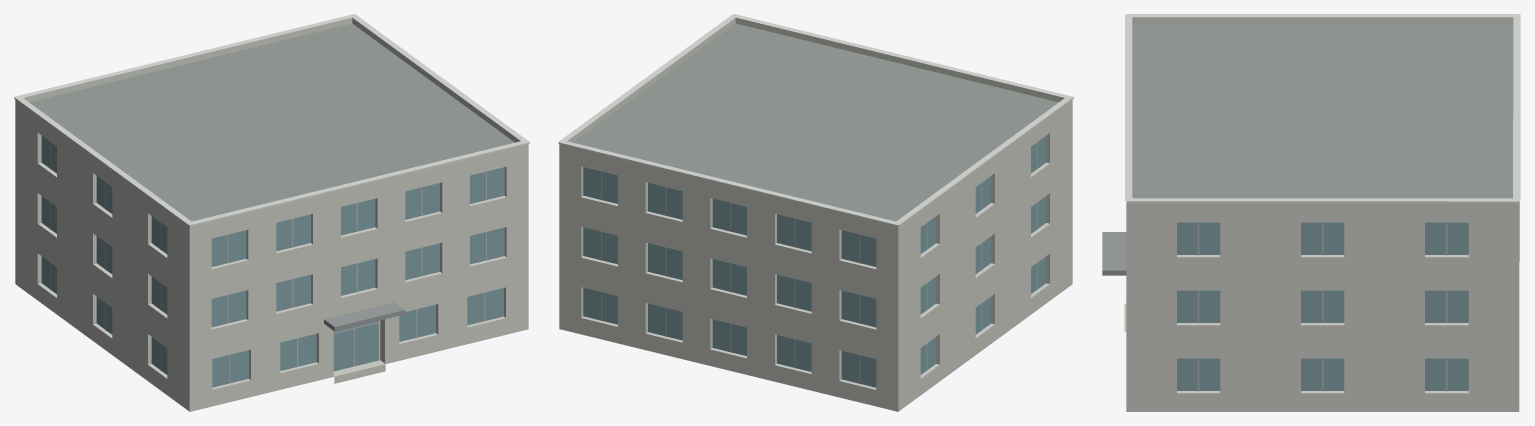
3 renders of one model, left to right at view 1: azimuth 30°, elevation 25°; view 2: azimuth 150°, elevation 25°; view 3: azimuth 270°, elevation 25°, orthographic. The views are drawn at different scales.
Visible parts, largest first — view 1: osm761589258__wall, osm761589258__roof, osm761589258__glass, osm761589258__trim, osm761589258__parapet, osm761589258__frame, osm761589258__canopy, osm761589258__entranceThreshold_0; view 2: osm761589258__wall, osm761589258__roof, osm761589258__glass, osm761589258__trim, osm761589258__parapet, osm761589258__frame; view 3: osm761589258__wall, osm761589258__roof, osm761589258__glass, osm761589258__trim, osm761589258__parapet, osm761589258__canopy, osm761589258__frame.
Part boxes in pixels (<box>): osm761589258__wall: <box>15,103,528,411</box>; osm761589258__roof: <box>16,23,528,411</box>; osm761589258__glass: <box>41,136,504,387</box>; osm761589258__trim: <box>14,14,529,226</box>; osm761589258__parapet: <box>15,17,528,230</box>; osm761589258__frame: <box>50,142,486,383</box>; osm761589258__canopy: <box>324,302,404,331</box>; osm761589258__entranceThreshold_0: <box>333,360,385,383</box>; osm761589258__wall: <box>559,103,1072,411</box>; osm761589258__roof: <box>559,23,1071,411</box>; osm761589258__glass: <box>583,136,1046,387</box>; osm761589258__trim: <box>558,14,1073,226</box>; osm761589258__parapet: <box>559,17,1072,230</box>; osm761589258__frame: <box>601,142,1037,383</box>; osm761589258__wall: <box>1126,201,1519,411</box>; osm761589258__roof: <box>1126,23,1518,411</box>; osm761589258__glass: <box>1177,222,1468,390</box>; osm761589258__trim: <box>1125,14,1520,203</box>; osm761589258__parapet: <box>1126,17,1519,207</box>; osm761589258__canopy: <box>1102,232,1126,275</box>; osm761589258__frame: <box>1197,222,1447,391</box>.
Bounding box in the file's own units: 21.28 × 11.55 × 20.08.
